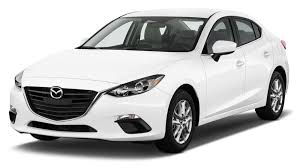car: (7, 7, 293, 159)
